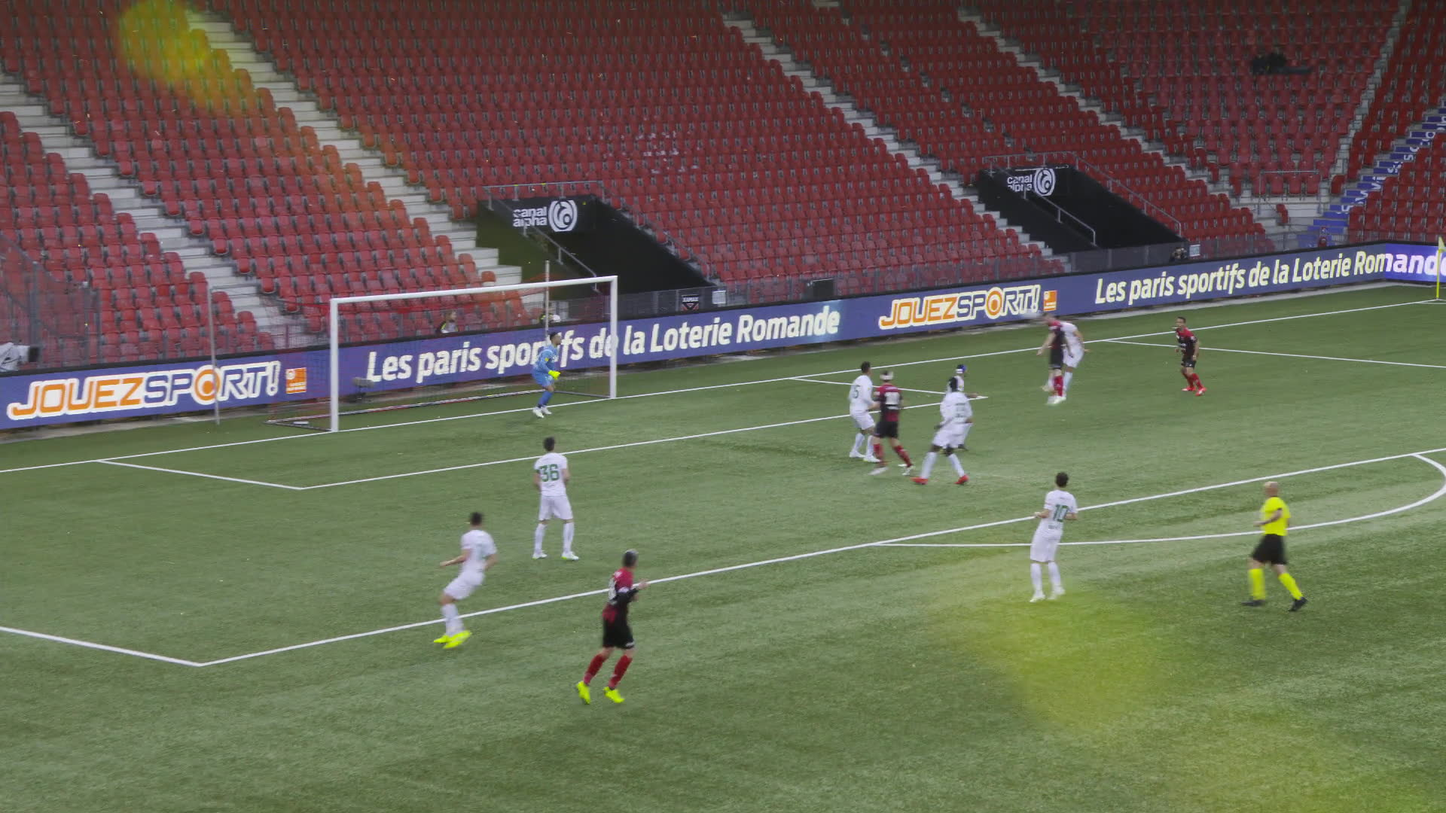ball: (1003, 301, 1014, 311)
player: (579, 546, 653, 699), (438, 509, 506, 644), (1023, 476, 1077, 602), (530, 437, 585, 559), (929, 373, 976, 483), (871, 370, 917, 475), (846, 361, 880, 461), (938, 364, 976, 452), (1048, 320, 1087, 400), (1045, 318, 1081, 403), (1170, 317, 1204, 394), (533, 333, 564, 416)
referee: (1249, 484, 1298, 610)
